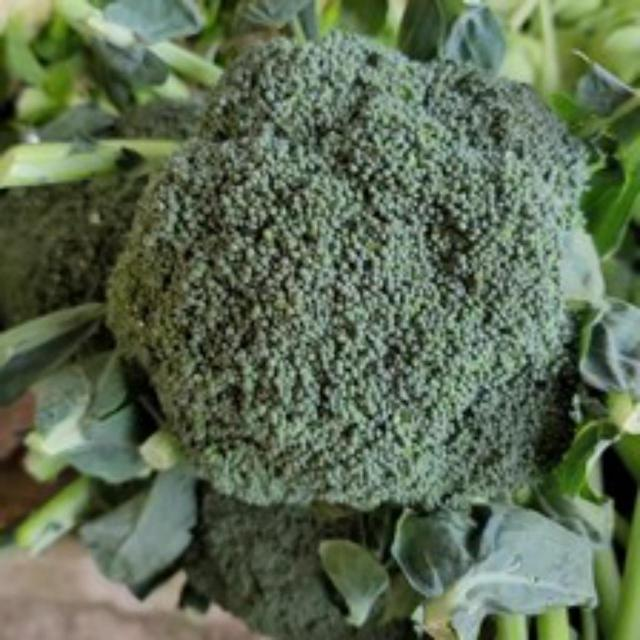broccoli: (102, 36, 596, 525)
